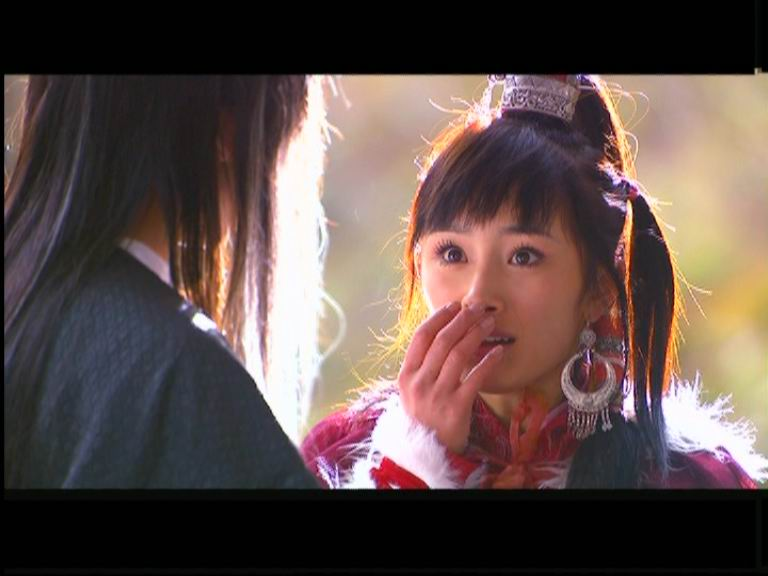face: (424, 185, 580, 396)
